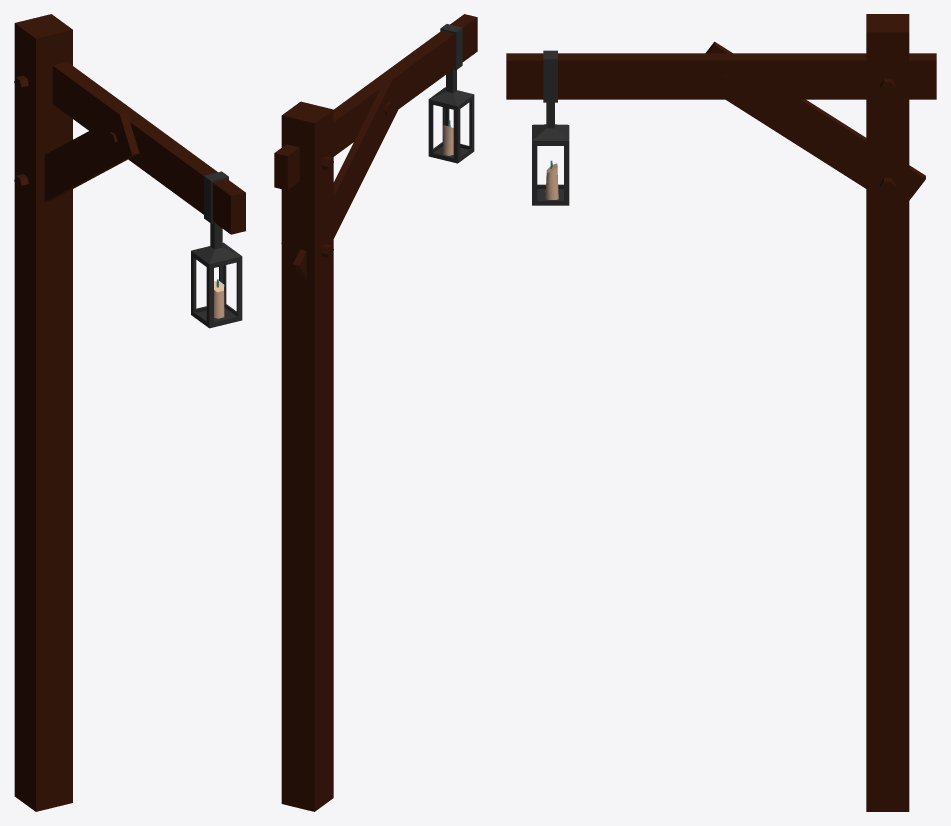
File: Lampadairebois.obj
3 views of the same model, side by side, from view 1: azimuth 30°, elevation 25°; view 2: azimuth 150°, elevation 25°; view 3: azimuth 270°, elevation 25° (orthographic). The views are drawn at different scales.
Visible parts, largest first — view 1: Box001, Box002, Box003, Object, Box004; view 2: Box001, Box002, Box003, Object, Box004; view 3: Box001, Box002, Box003, Box004, Object.
Boxes of the visible parts, <box> form: Box001: <box>14,14,72,811</box>; Box002: <box>52,62,245,234</box>; Box003: <box>44,113,139,201</box>; Object: <box>191,251,242,328</box>; Box004: <box>191,171,241,264</box>; Box001: <box>281,101,333,811</box>; Box002: <box>274,14,477,190</box>; Box003: <box>293,77,403,279</box>; Object: <box>428,94,474,163</box>; Box004: <box>429,24,473,106</box>; Box001: <box>866,14,909,811</box>; Box002: <box>506,53,936,99</box>; Box003: <box>705,41,925,200</box>; Box004: <box>532,50,569,140</box>; Object: <box>532,141,569,205</box>.
Bounding box in the file's own units: 14 × 200 × 100.
